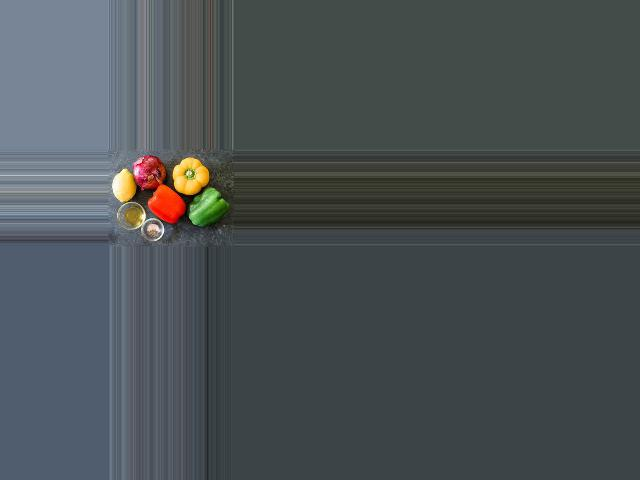bell_pepper: (148, 183, 185, 224)
